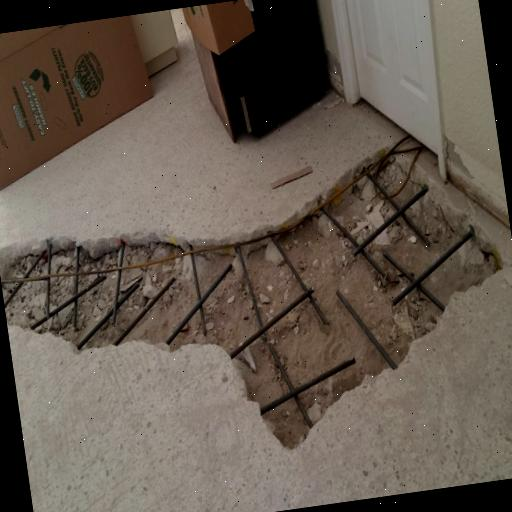spalling: (0, 140, 512, 461)
